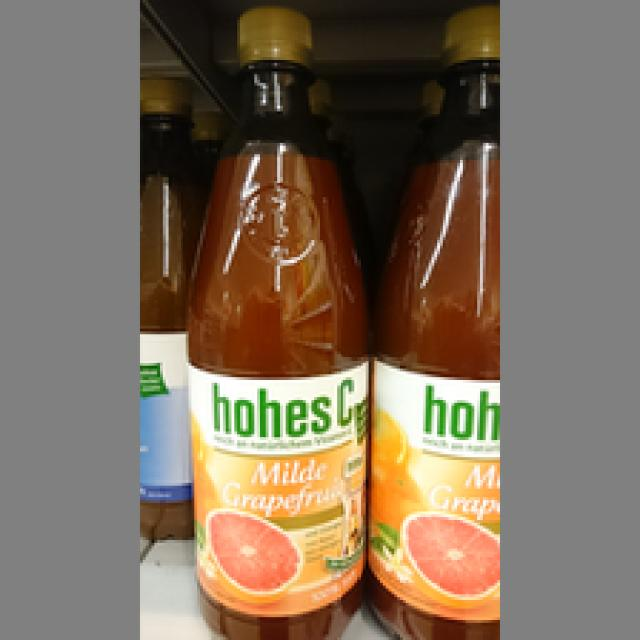groceries: (185, 3, 368, 637), (366, 15, 497, 634)
